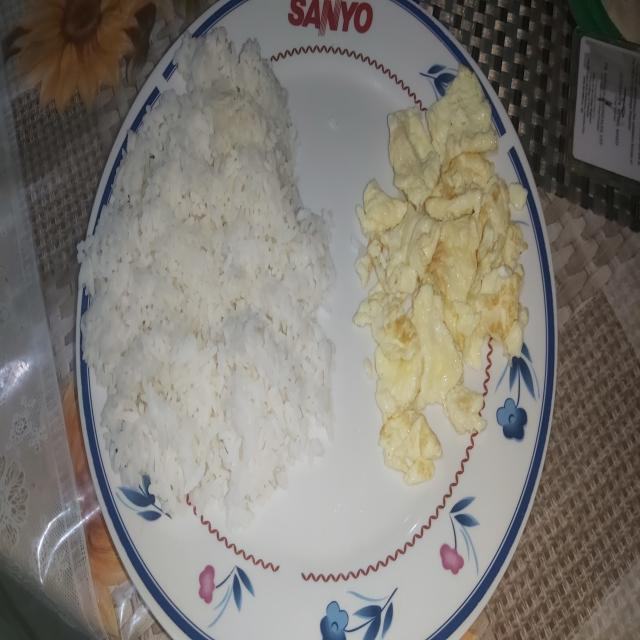Chicken -Chicken Inasal-: (103, 24, 325, 506)
